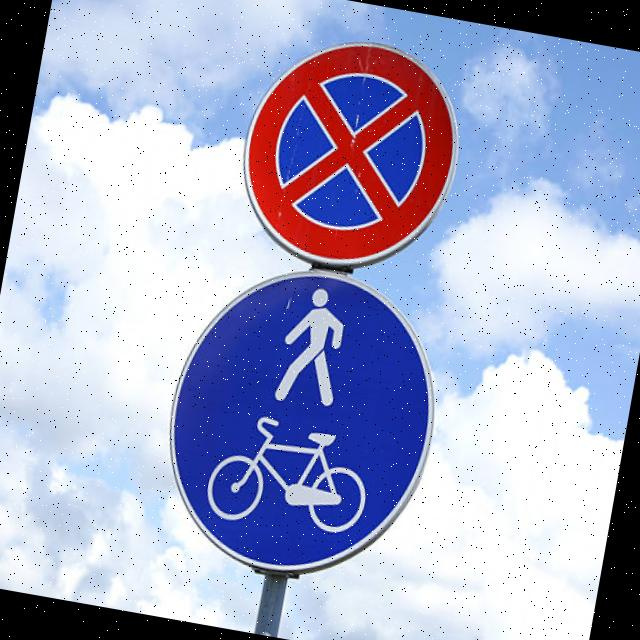bicycle: (132, 239, 472, 602)
no_parking: (220, 10, 478, 294)
